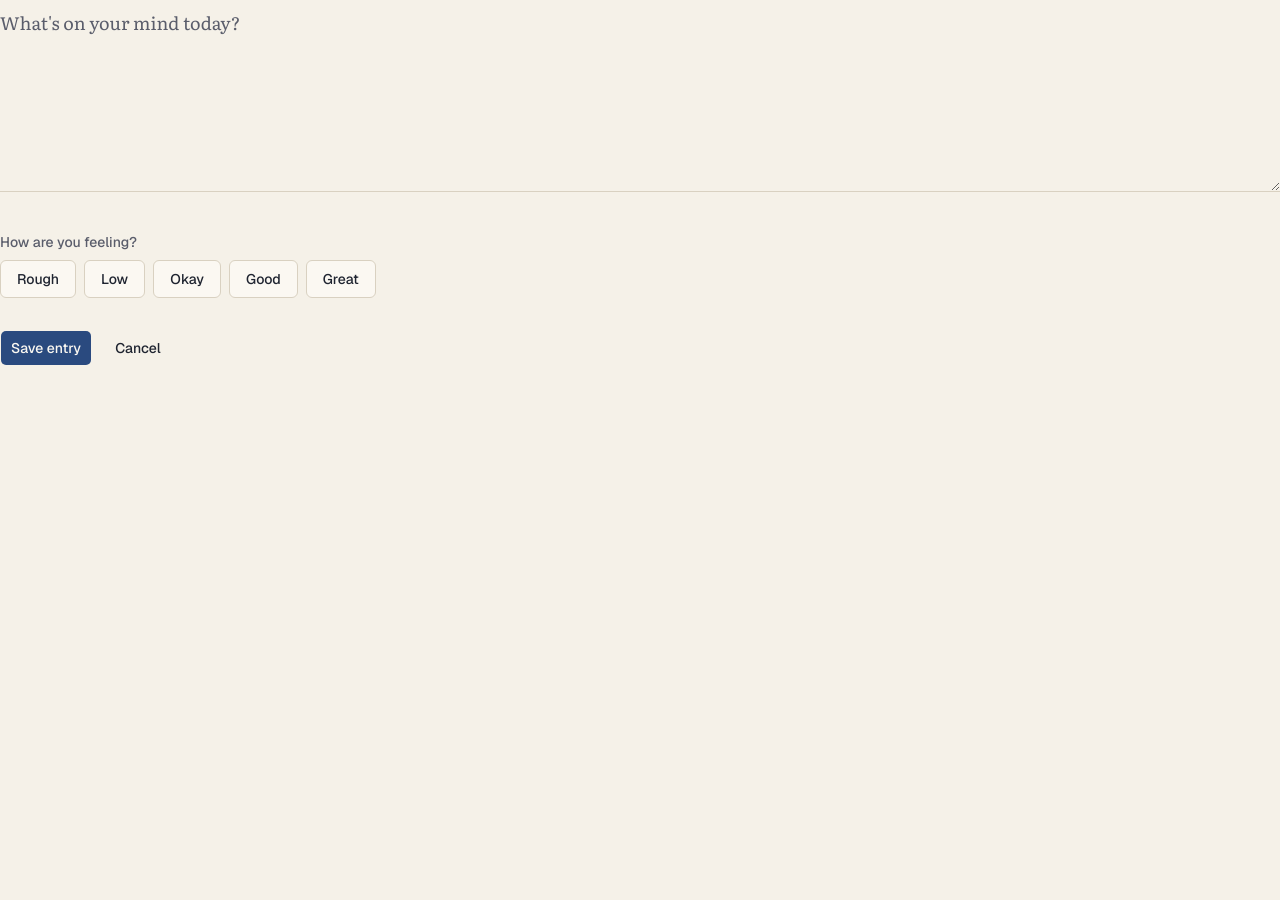
Test: EntryEditor › cancels at once when empty, asks first when there is text
Later steps or results of the test are not shown.
Click the button "Cancel" at [138, 348], box [104,330,172,366]
Type "draft" into the text box named "Entry text" at [640, 96], box [0,0,1279,192]
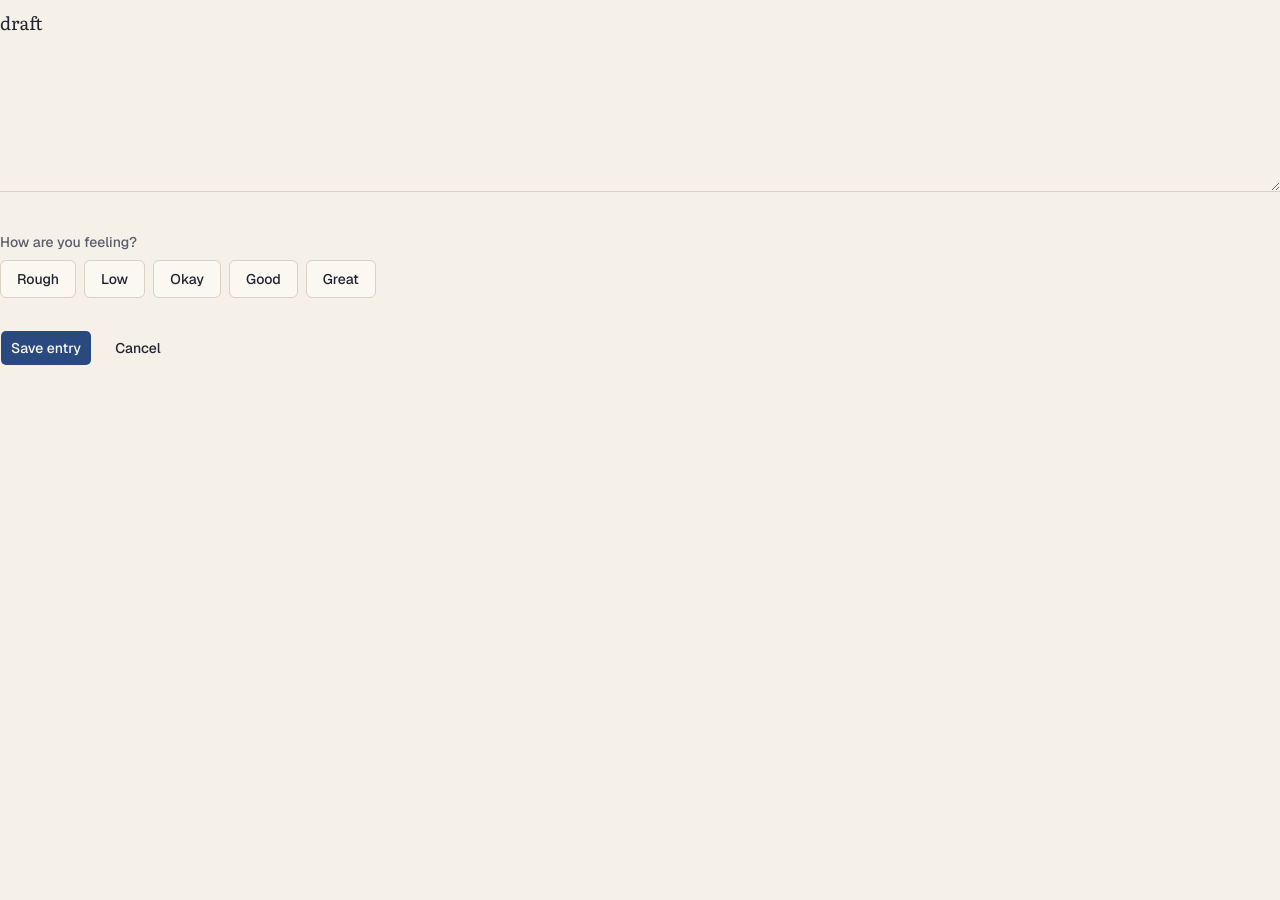
Click the button "Cancel" at [138, 348], box [104,330,172,366]
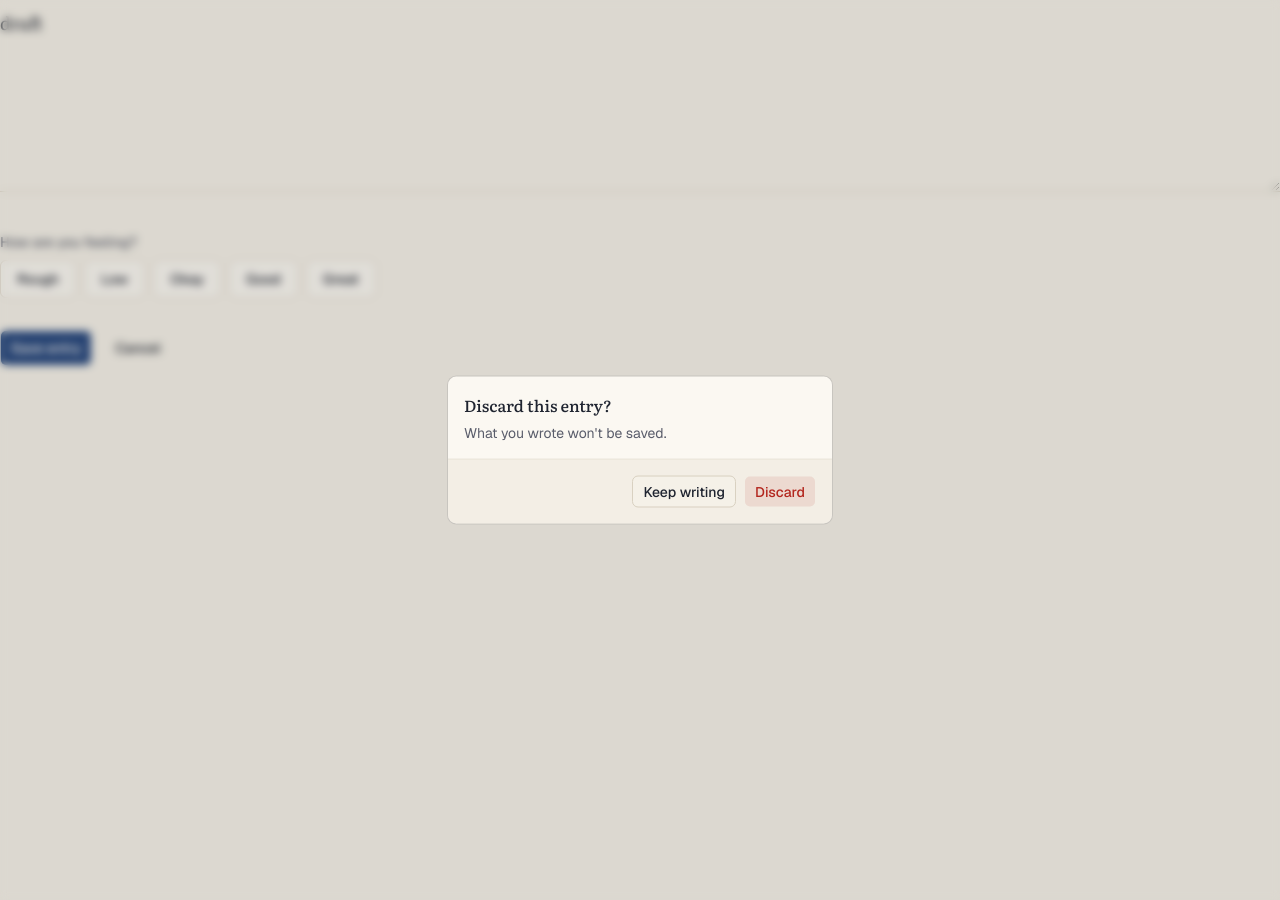
Now the heading "Discard this entry?" is shown, box [464,392,612,416]
